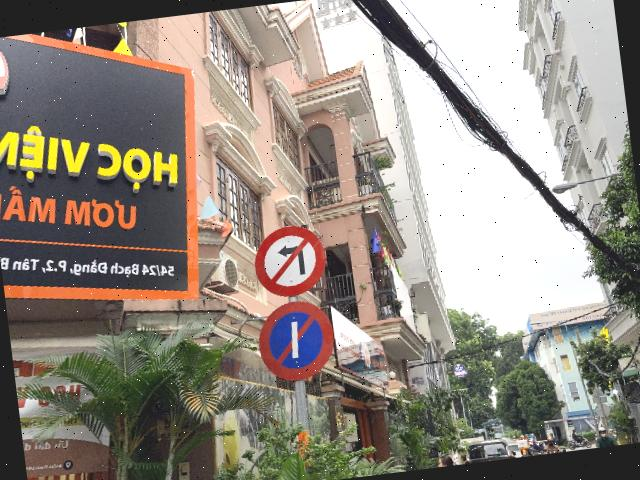cam-do-xe-ngay-le: (252, 296, 340, 386)
cam-re-phai: (250, 222, 330, 300)
